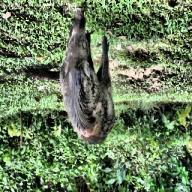boar: (58, 6, 116, 145)
